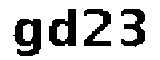2: (82, 7, 115, 52)
3: (118, 6, 148, 48)
d: (47, 7, 80, 52)
g: (11, 16, 43, 60)
